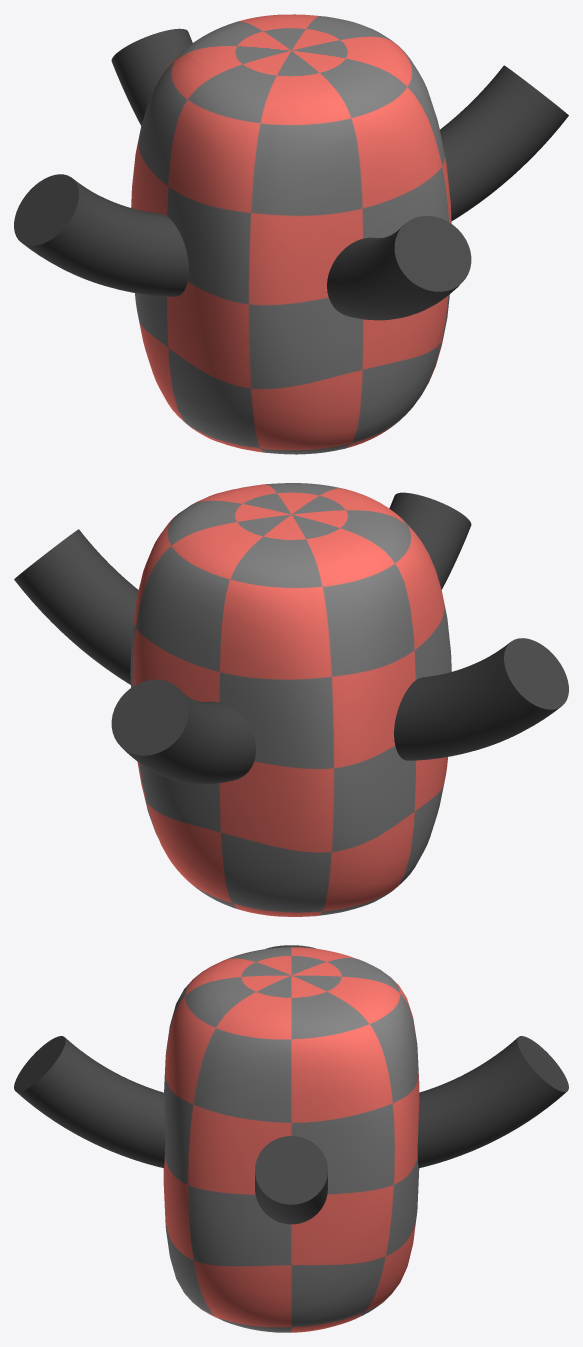
Rendered from Body(Oblong)+Colour(More_Red)+Pattern(Checkered)+Arm_Angle(Bent_Up).fbx.
3 renders of one model, top to bottom at view 1: azimuth 30°, elevation 25°; view 2: azimuth 150°, elevation 25°; view 3: azimuth 270°, elevation 25°, orthographic. The views are drawn at different scales.
Visible parts, largest first — view 1: Body(Oblong)+Colour(More_Red)+Pattern(Checkered)+Arm_Angle(B (×5); view 2: Body(Oblong)+Colour(More_Red)+Pattern(Checkered)+Arm_Angle(B (×5); view 3: Body(Oblong)+Colour(More_Red)+Pattern(Checkered)+Arm_Angle(B (×4).
Boxes of the visible parts, left/top/right/bottom form: Body(Oblong)+Colour(More_Red)+Pattern(Checkered)+Arm_Angle(B (×5): left=14, top=14, right=568, bottom=454; Body(Oblong)+Colour(More_Red)+Pattern(Checkered)+Arm_Angle(B (×5): left=14, top=483, right=568, bottom=916; Body(Oblong)+Colour(More_Red)+Pattern(Checkered)+Arm_Angle(B (×4): left=14, top=947, right=568, bottom=1332.
Bounding box in the file's own units: 60.67 × 40 × 60.67.
2 materials, 2 textured.
